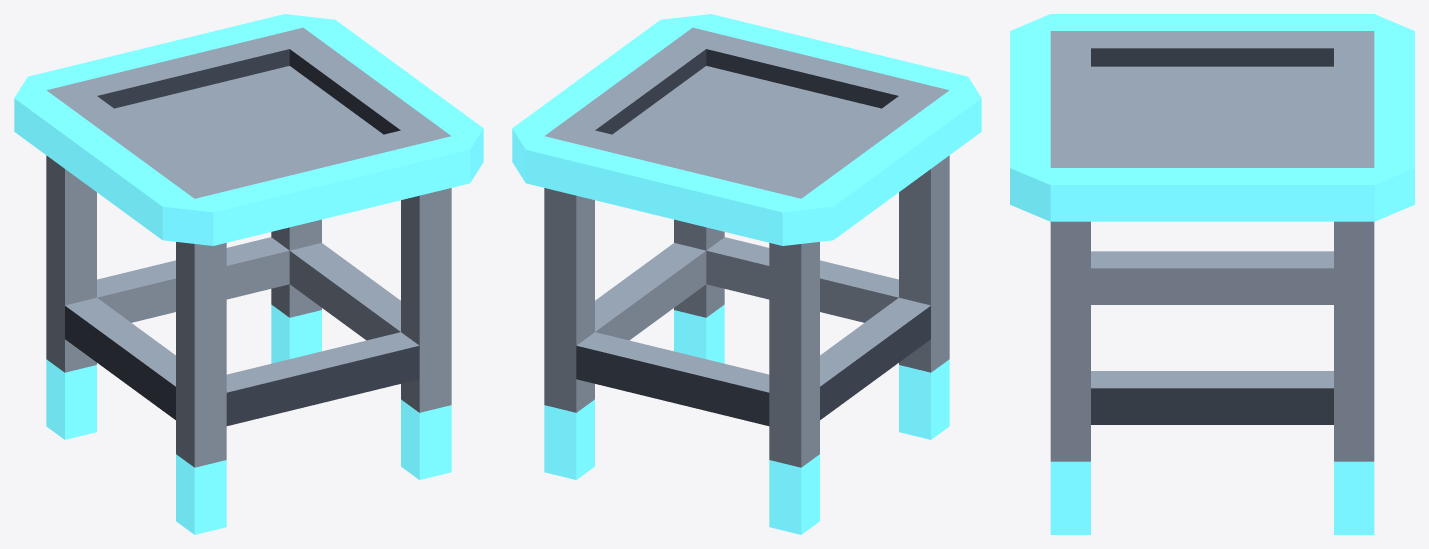
Rendered from platform_high.glb.
3 renders of one model, left to right at view 1: azimuth 30°, elevation 25°; view 2: azimuth 150°, elevation 25°; view 3: azimuth 270°, elevation 25°, orthographic. The views are drawn at different scales.
Visible parts, largest first — view 1: platform_high; view 2: platform_high; view 3: platform_high.
Boxes of the visible parts, x1,y1,x2,y2 form: platform_high: [14, 14, 483, 534]; platform_high: [512, 14, 981, 534]; platform_high: [1010, 14, 1414, 534].
Size of the model in its own units: 1 by 1 by 1.
